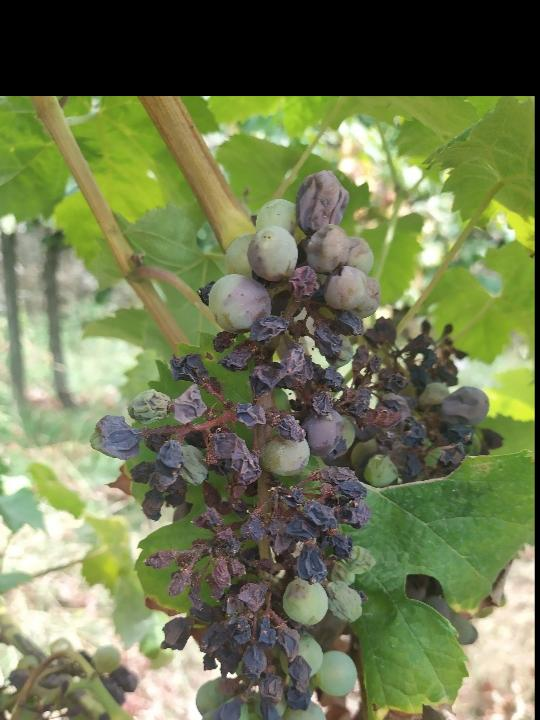grape: (87, 165, 493, 720)
